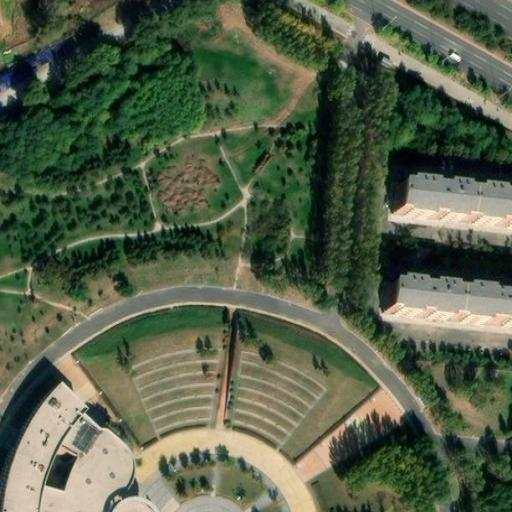building: (4, 379, 158, 512), (385, 283, 512, 328), (387, 184, 512, 228)
